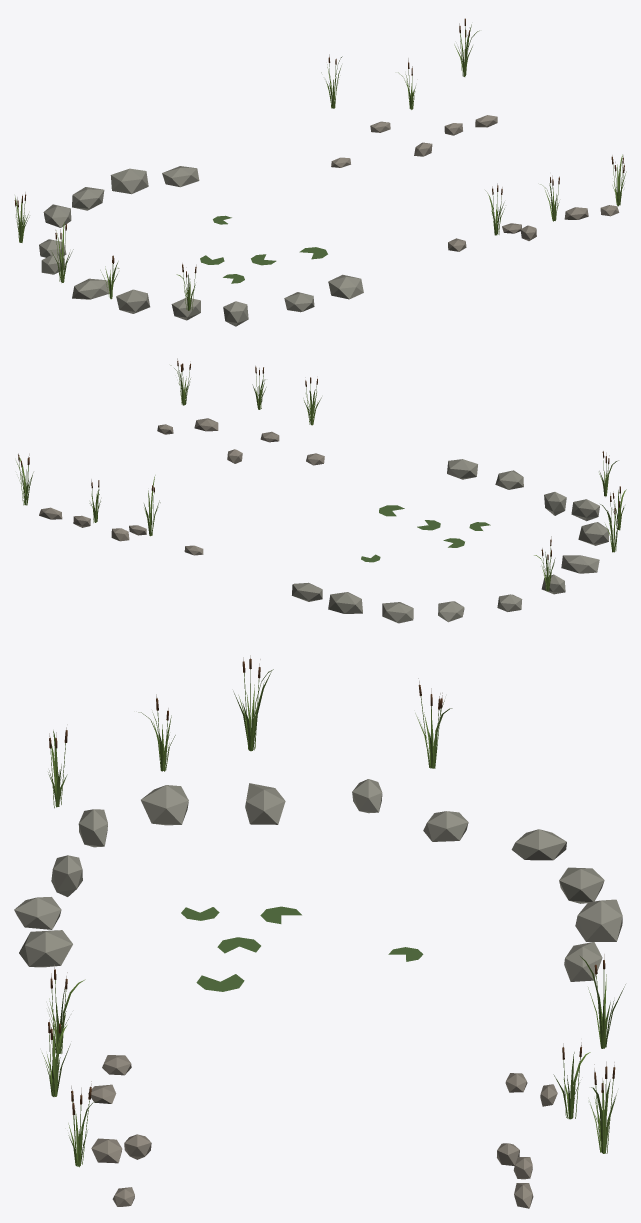
Rendered from river_spring_center.glb.
3 renders of one model, top to bottom at view 1: azimuth 30°, elevation 25°; view 2: azimuth 150°, elevation 25°; view 3: azimuth 270°, elevation 25°, orthographic. The views are drawn at different scales.
Visible parts, largest first — view 1: river_spring_center_lod0; view 2: river_spring_center_lod0; view 3: river_spring_center_lod0.
Boxes of the visible parts, bbox=[...] form: river_spring_center_lod0: bbox=[14, 18, 626, 326]; river_spring_center_lod0: bbox=[16, 358, 626, 623]; river_spring_center_lod0: bbox=[14, 655, 625, 1208].
Size of what is drawn, in the model's own units: 20.12 by 3.62 by 12.19.
